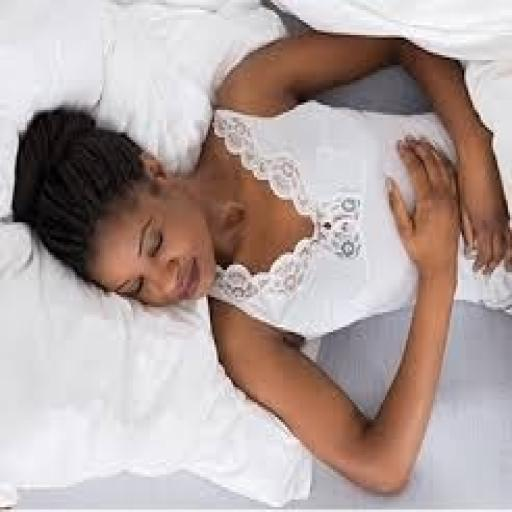sleeping: (8, 22, 510, 497)
